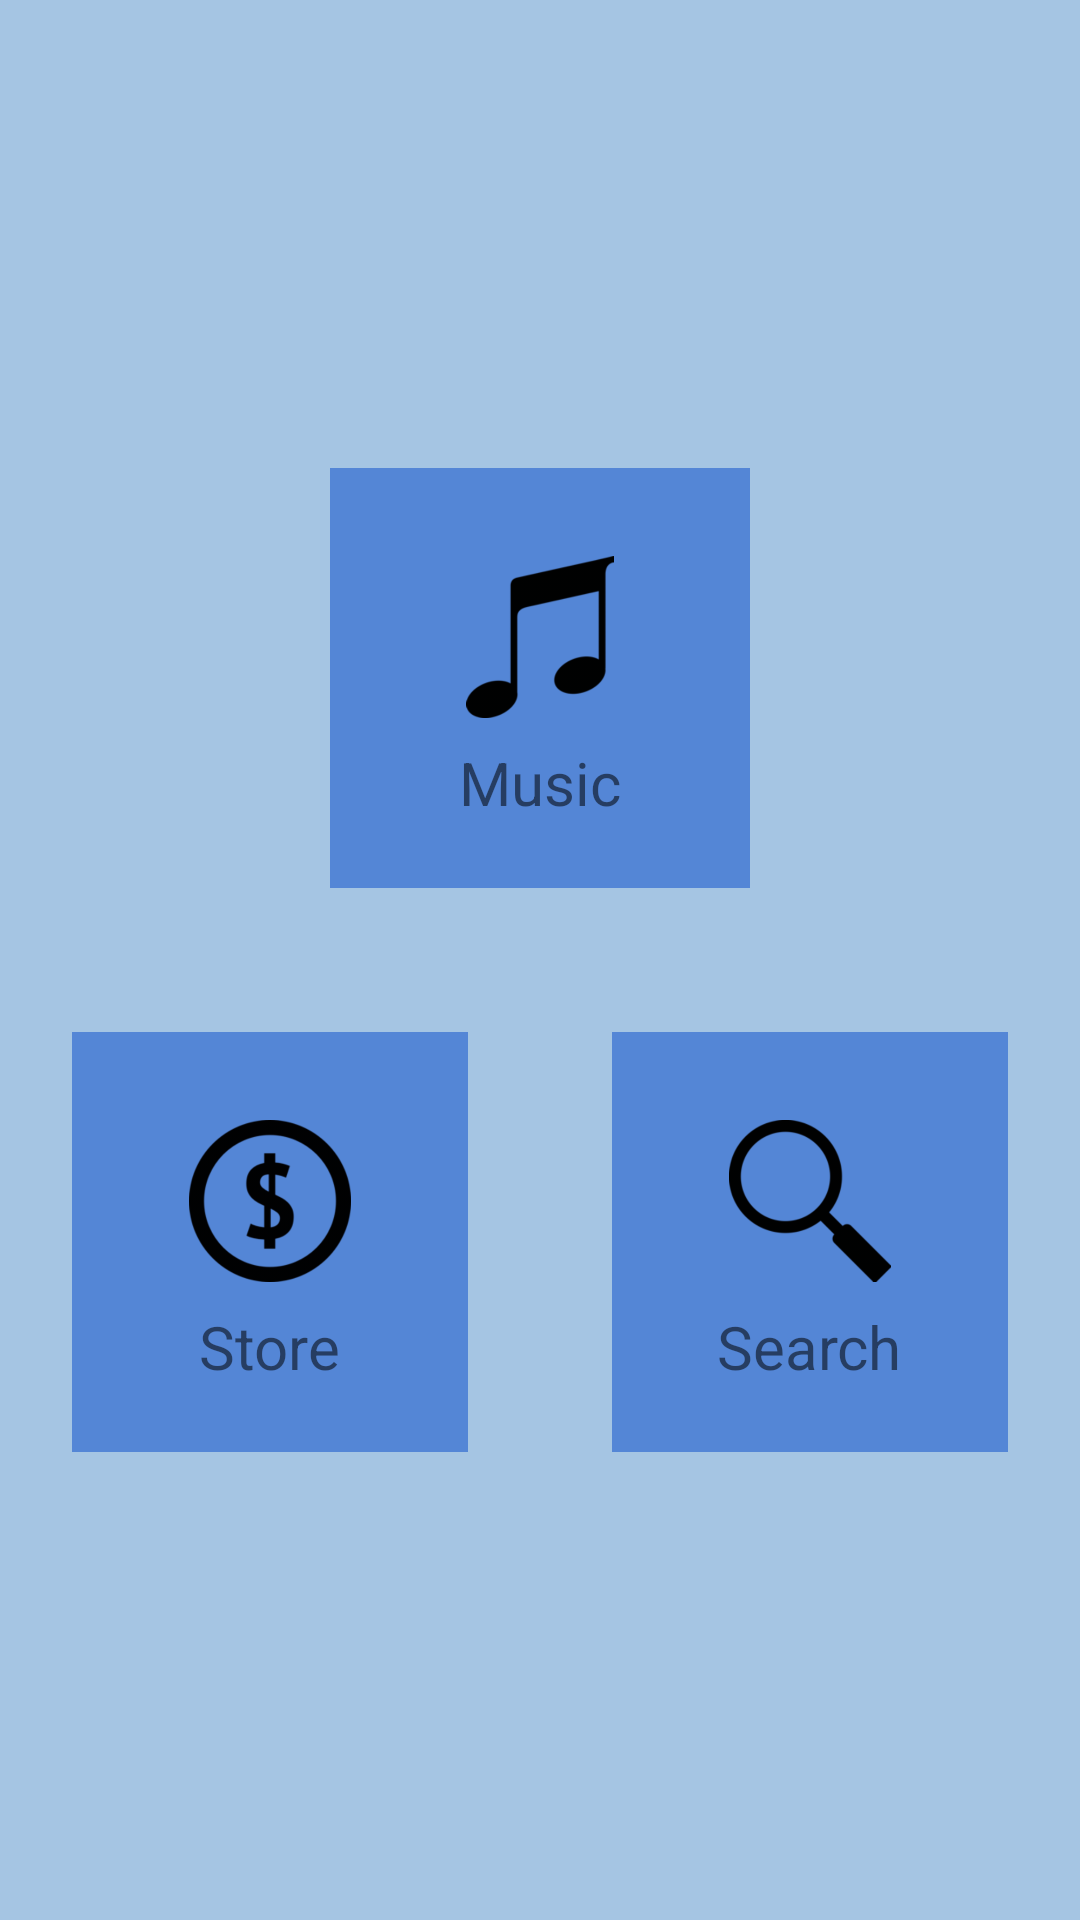

Icon click points for this 1080w x 1920h phone screenshot, format point (x, y):
dollar: point (270, 1201)
glass: point (810, 1201)
note: point (540, 637)
